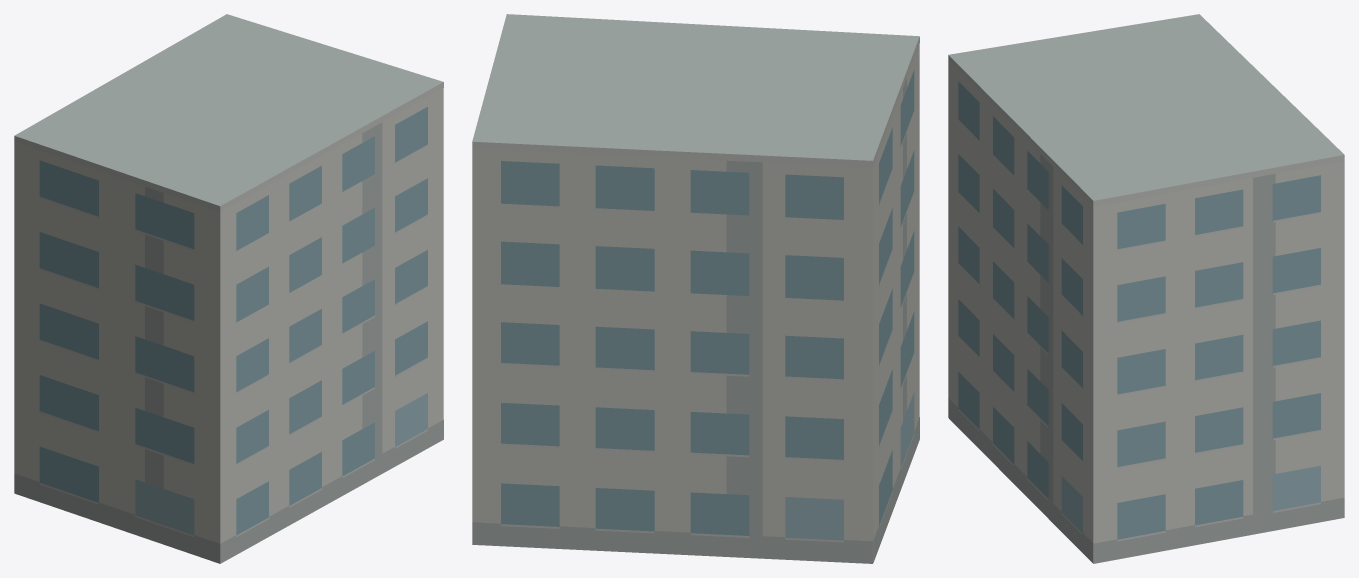
File: survey-upis-33028361.glb
3 views of the same model, side by side, from view 1: azimuth 30°, elevation 25°; view 2: azimuth 150°, elevation 25°; view 3: azimuth 270°, elevation 25° (orthographic). The views are drawn at different scales.
Parts seen in each view (by area): view 1: survey-upis-33028361.tmp; view 2: survey-upis-33028361.tmp; view 3: survey-upis-33028361.tmp.
Part boxes in pixels (left/top/right/bottom): survey-upis-33028361.tmp: left=14, top=14, right=443, bottom=563; survey-upis-33028361.tmp: left=472, top=14, right=919, bottom=563; survey-upis-33028361.tmp: left=948, top=14, right=1344, bottom=563.
Bounding box in the file's own units: 15.74 × 14.25 × 14.11.
